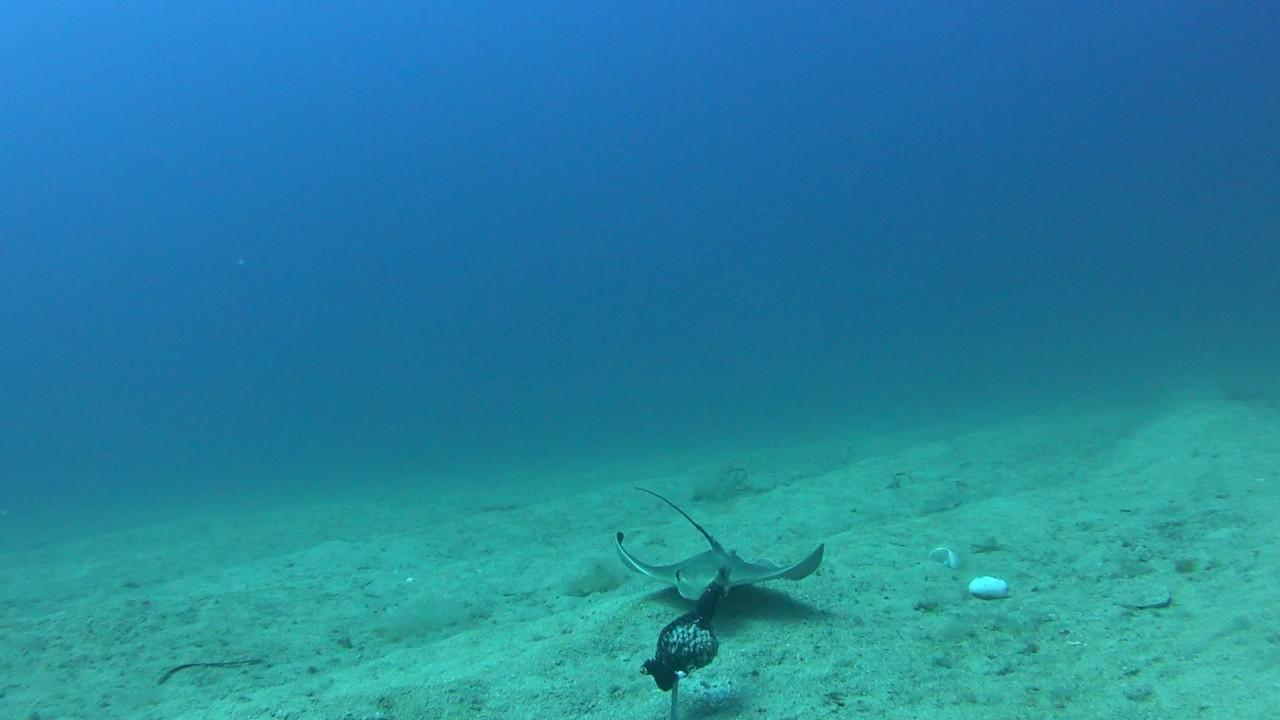myliobatis: (606, 470, 831, 610)
